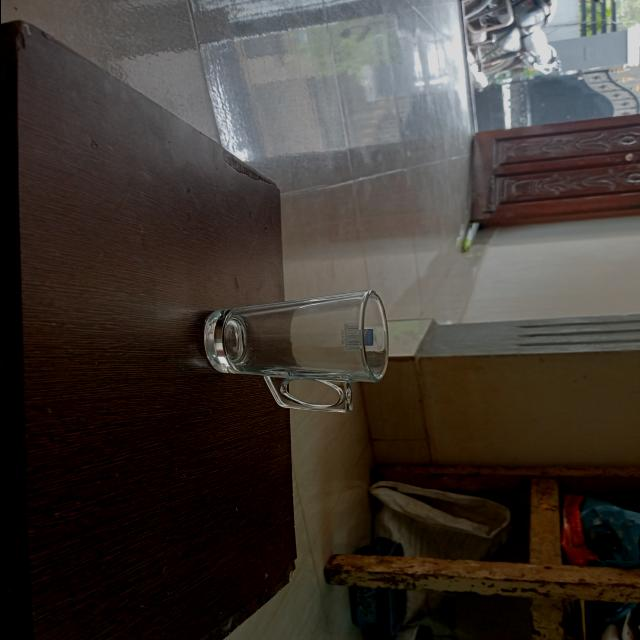glass-VX4N: (200, 278, 406, 416)
